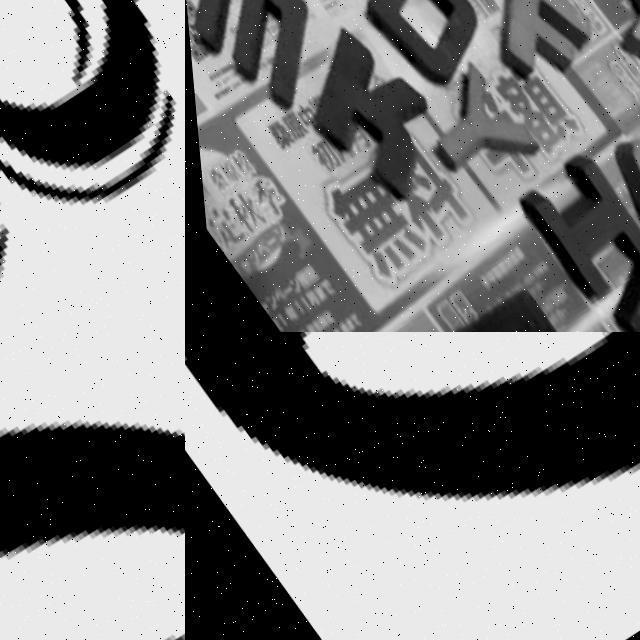0: (185, 332, 640, 640), (0, 332, 185, 640)
3: (0, 0, 185, 332)
B: (435, 276, 594, 332)
C: (586, 97, 640, 277)
D: (344, 0, 501, 91)
F: (459, 0, 608, 94)
I: (498, 138, 640, 305)
K: (271, 19, 464, 219)
M: (185, 0, 346, 118)
N: (582, 229, 640, 332)
X: (573, 0, 640, 96)
Y: (398, 57, 536, 195)
